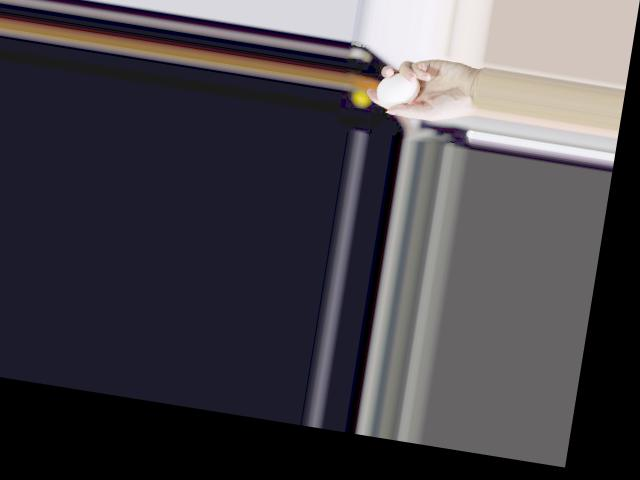egg: (373, 70, 420, 110)
